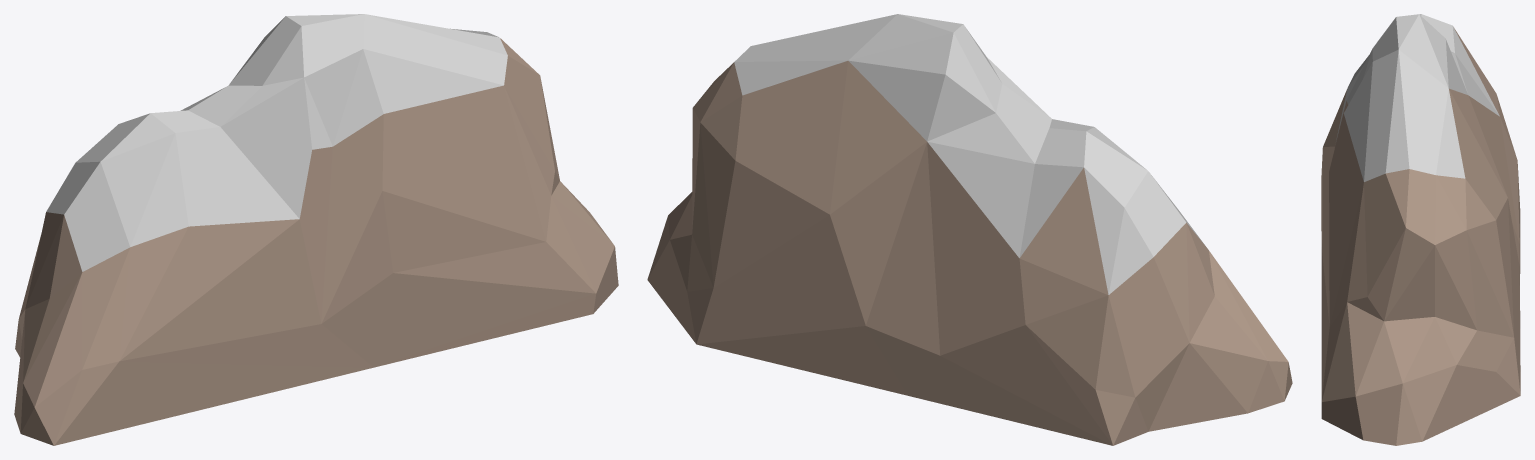
File: mountain6.fbx
3 views of the same model, side by side, from view 1: azimuth 30°, elevation 25°; view 2: azimuth 150°, elevation 25°; view 3: azimuth 270°, elevation 25° (orthographic). The views are drawn at different scales.
Parts seen in each view (by area): view 1: Plane.004; view 2: Plane.004; view 3: Plane.004.
Part boxes in pixels (x1,y1,x2,y2): Plane.004: (14, 14, 618, 445); Plane.004: (647, 14, 1292, 445); Plane.004: (1321, 14, 1520, 445).
Bounding box in the file's own units: 6498 × 3250 × 2011.
